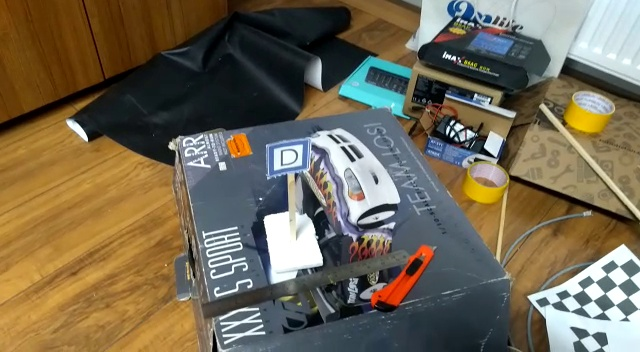durak: (264, 139, 313, 178)
